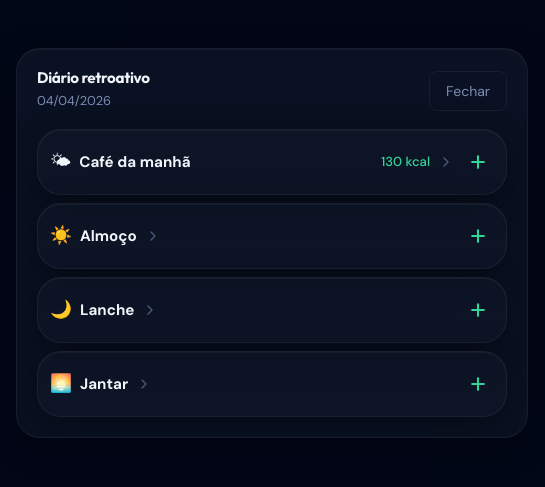
Test: RetroactiveDiaryView › renders previously registered items returned by the diary payload
This screenshot has width=545, height=487.
Click the button "🌤 Café da manhã 130 kcal" at (135, 162), box left=50, top=150, right=454, bottom=174
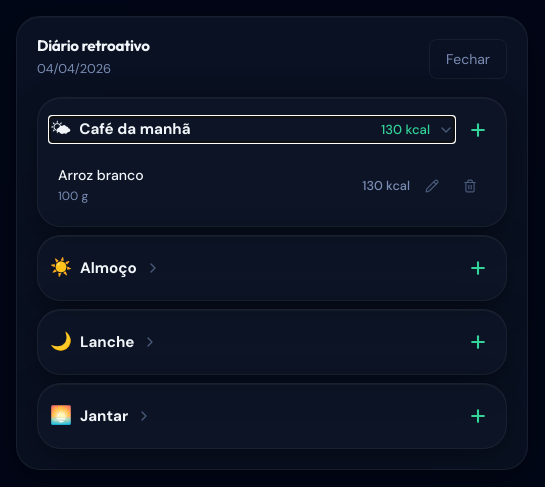
Result: the text "Arroz branco" is shown at left=58, top=166, right=144, bottom=184
